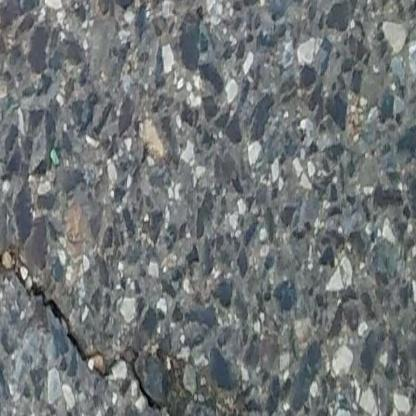Cracks: (0, 226, 174, 416)
